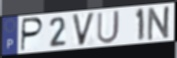1: (134, 7, 146, 43)
2: (48, 16, 67, 48)
N: (146, 5, 173, 42)
P: (20, 17, 45, 53)
U: (96, 9, 121, 45)
V: (70, 11, 97, 48)
